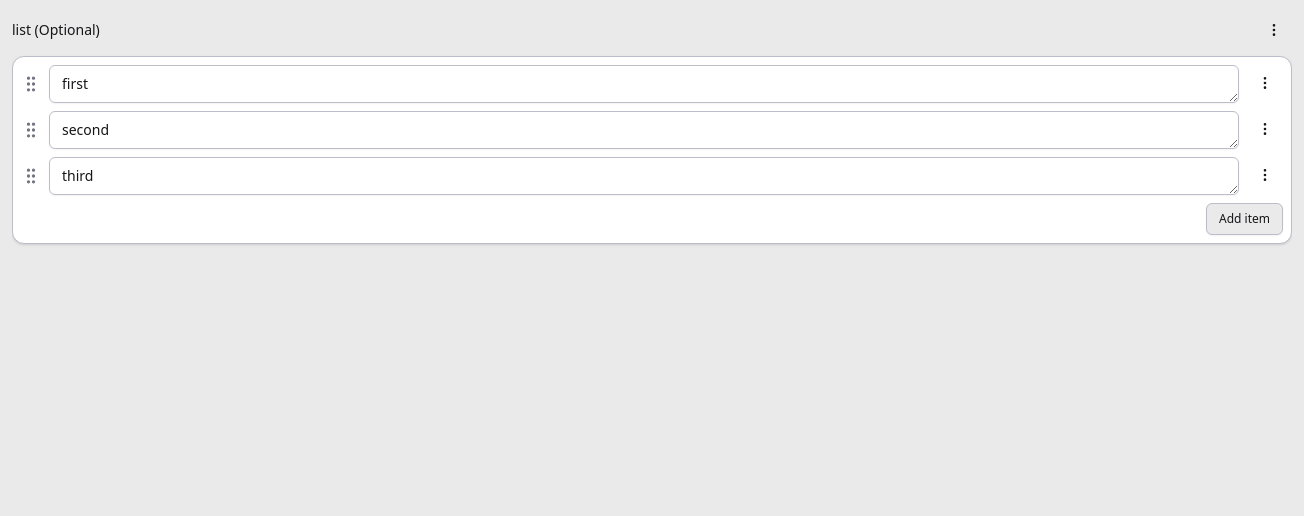
Test: SchemaFormInputArrayList › move to top/bottom menu options › shows 'Move to top' option for non-first items
# Click the second array item's menu (index 2 - after property menu and first item menu)
Click the 3rd button named "open menu".
click(1265, 129)  # box [1247,111,1283,147]
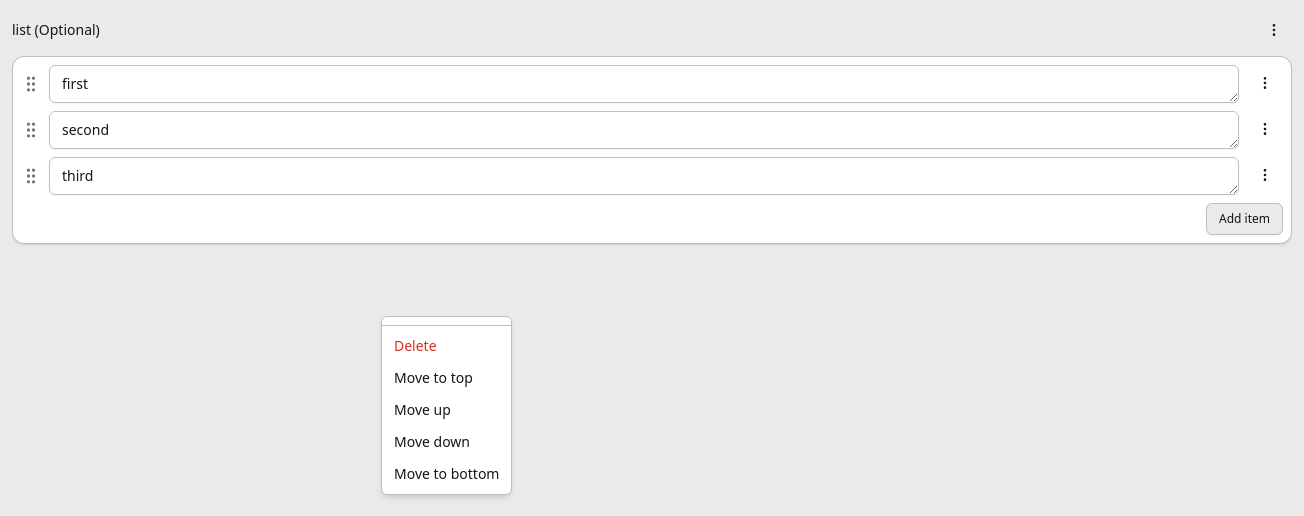
Check: the menu item "Move to top" is shown, box [394,368,473,387]
